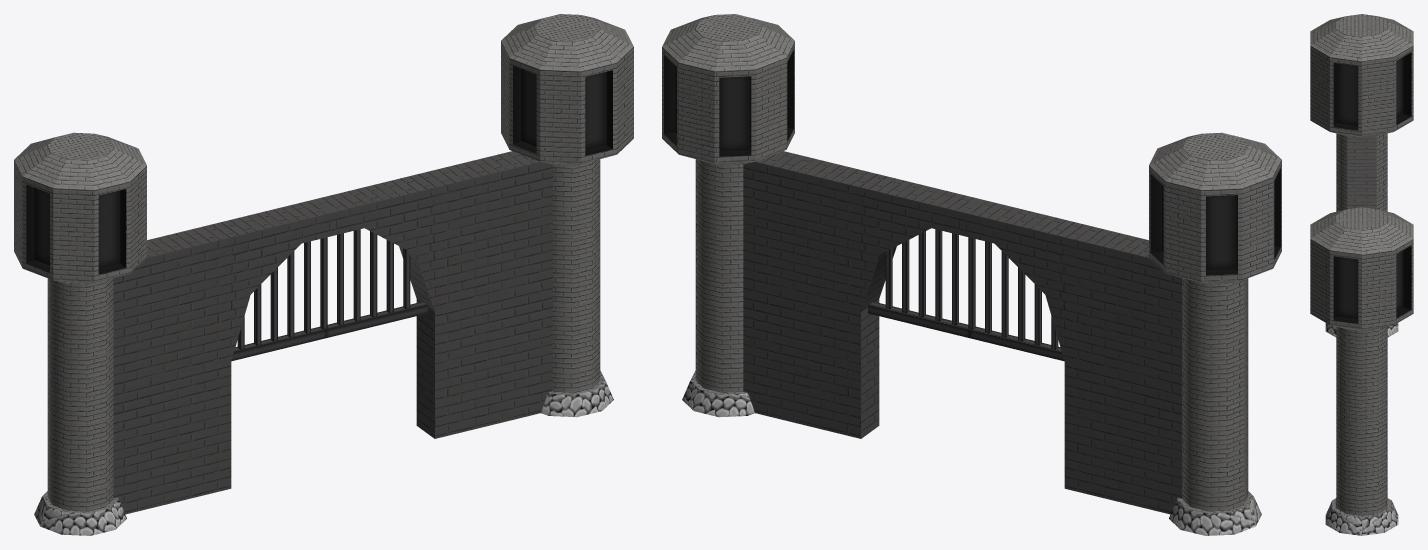
3 views of the same model, side by side, from view 1: azimuth 30°, elevation 25°; view 2: azimuth 150°, elevation 25°; view 3: azimuth 270°, elevation 25° (orthographic). The views are drawn at different scales.
Parts seen in each view (by area): view 1: Box163; view 2: Box163; view 3: Box163.
Part boxes in pixels (bbox=[...]): Box163: bbox=[14, 14, 633, 535]; Box163: bbox=[662, 14, 1281, 535]; Box163: bbox=[1310, 14, 1413, 535].
Bounding box in the file's own units: 369 × 216 × 67.35.
1 material, 1 textured.
